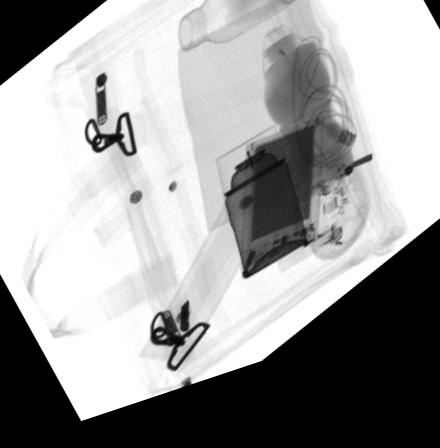Lighter: (275, 239, 343, 290)
Powerbank: (240, 136, 324, 285)
Sprayer: (215, 139, 308, 295)
